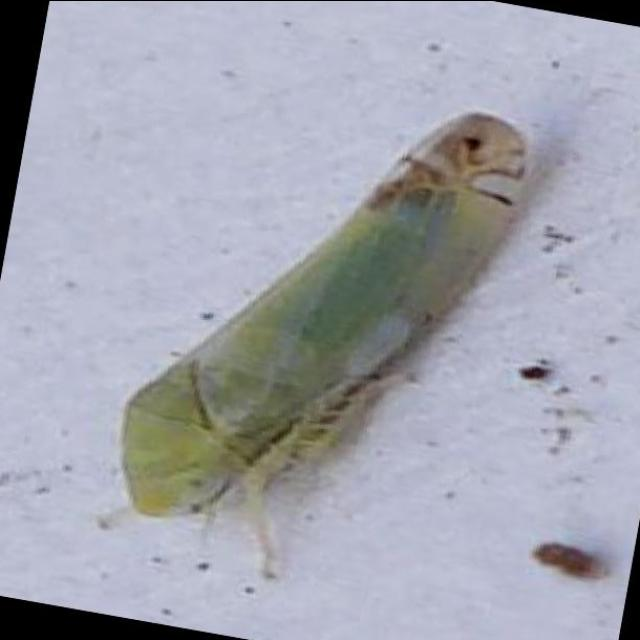green leaf hopper: (98, 113, 531, 529)
